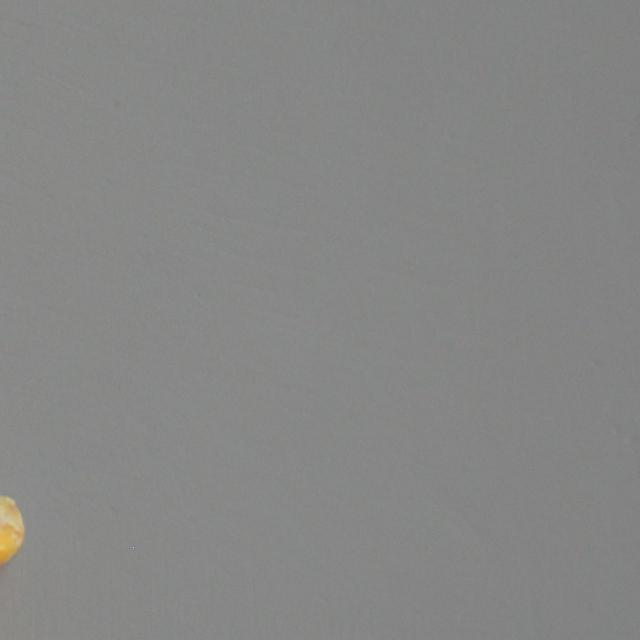entero: (0, 484, 26, 584)
